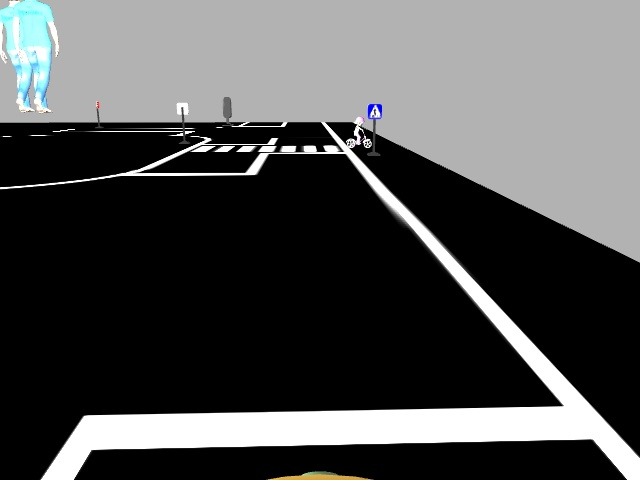Pedestrian: (344, 113, 371, 147)
